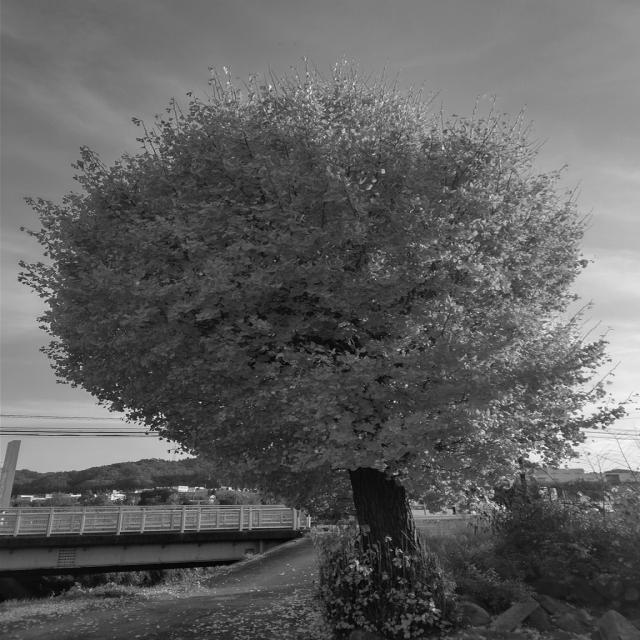ginkgo: (18, 53, 627, 640)
